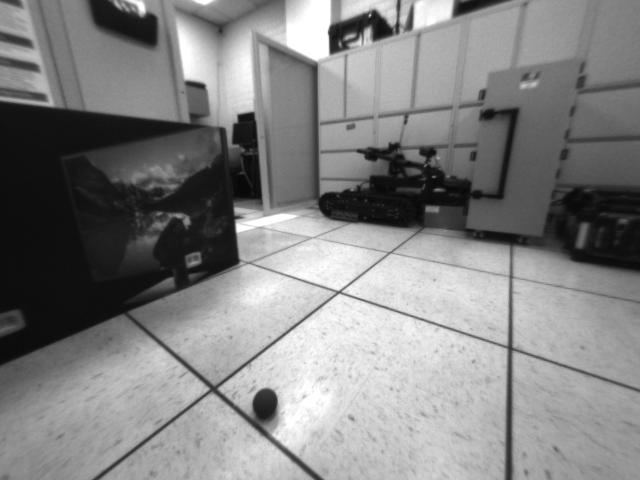dogtoy: (245, 382, 285, 424)
